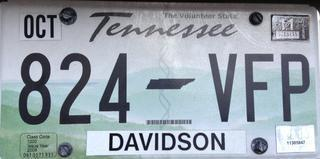placa de veiculo: (5, 1, 320, 159)
